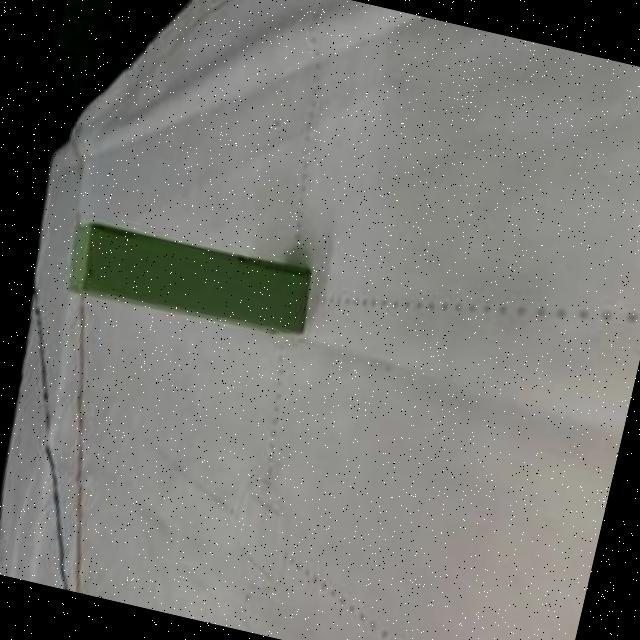greenbox: (58, 211, 316, 344)
